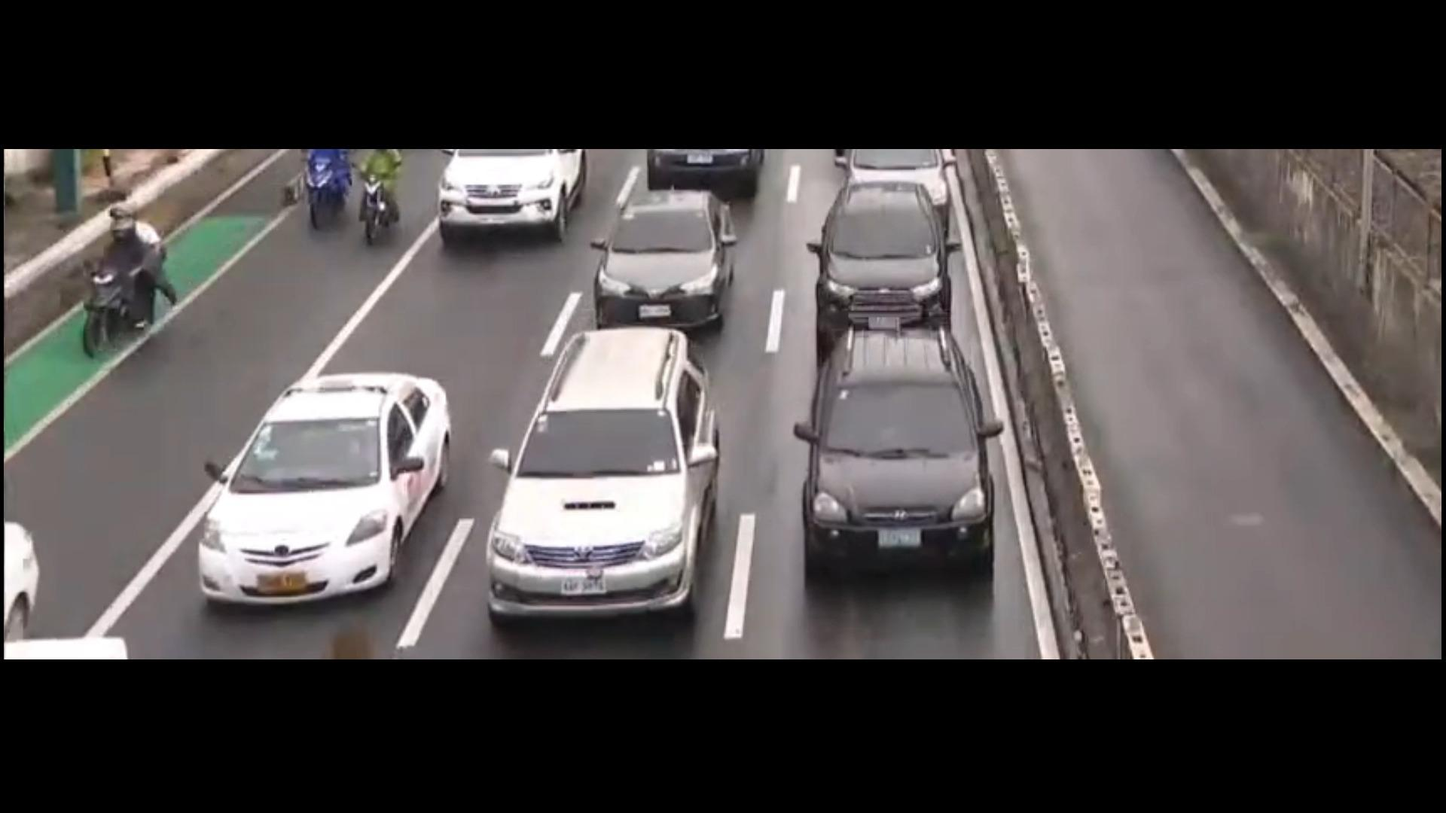Motorcycle: (67, 206, 192, 378), (337, 143, 433, 262), (287, 134, 346, 229)
SUV: (483, 317, 716, 639), (798, 322, 998, 592), (793, 168, 959, 340)
Sedan: (179, 356, 479, 607), (563, 170, 752, 336)
